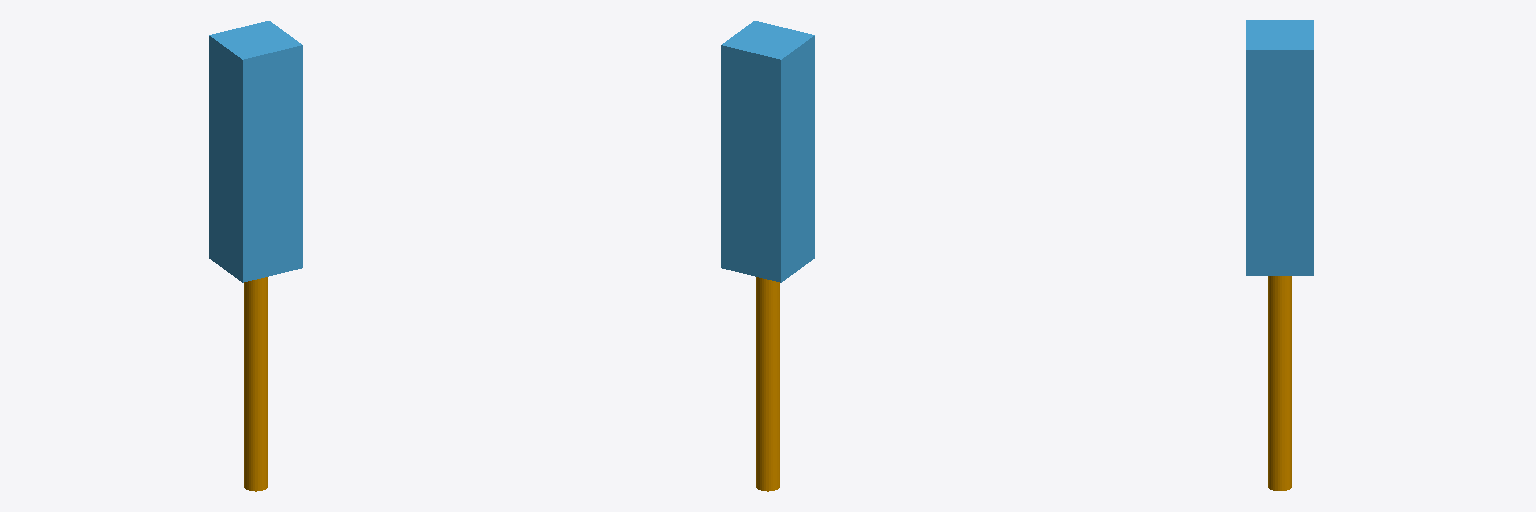
The robot description file, URDF, robot "screwdriver_on_the_table":
<?xml version="1.0" ?>
<!-- this is the one without any virtual joints and links -->
<robot name="screwdriver_on_the_table">
<link name="screwdriver_stick">
    <inertial>
      <mass value="0.05"/>
      <!-- <friction value="1.0"/> -->
      <inertia ixx="0.000041979" ixy="0.0" ixz="0.0" iyy="0.000041979" iyz="0.0" izz="0.000000625"/>
    </inertial>
    <visual>
        <origin rpy="0 0 0" xyz="0 0 0.05"/>
        <geometry>
            <cylinder radius="0.005" length="0.1"/>
        </geometry>
        <!-- <material name="White">
	 	    <color rgba="0.9 0.9 0.9 0.5"/>
        </material> -->
    </visual>
    <collision>
        <origin rpy="0 0 0" xyz="0 0 0.05"/>
        <geometry>
            <cylinder radius="0.005" length="0.1"/>
        </geometry>
    </collision>
</link>

<gazebo reference="screwdriver_body">
    <mu1>1.410469</mu1>
    <mu2>1.125794</mu2>
    <!-- Isaac Sim maps mu1/mu2 to PhysX static/dynamic friction during URDF→USD import -->
</gazebo>

<joint name="screwdriver_stick_body_joint" type="fixed">
    <parent link="screwdriver_stick"/>
    <child link="screwdriver_body"/>
    <origin rpy="0 0 0" xyz="0 0 0.1"/> 
    <axis xyz="0 0 1"/>
</joint>

<link name="screwdriver_body">
    <inertial>
      <mass value="0.090492"/>
      <inertia ixx="0.000081030" ixy="0.0" ixz="0.0" iyy="0.000081447" iyz="0.0" izz="0.000011657"/>
    </inertial>
    <visual>
        <origin rpy="0 0 0" xyz="0 0 0.05"/>
        <geometry>
            <box size="0.028294 0.027300 0.100000"/>
        </geometry>
        <!-- <material name="Red1">
	 	    <color rgba="0.9 0. 0. 0.5"/>
        </material> -->
    </visual>
    <collision>
        <origin rpy="0 0 0" xyz="0 0 0.05"/>
        <geometry>
            <box size="0.028294 0.027300 0.100000"/>
        </geometry>
    </collision>
</link>

<!-- <joint name="screwdriver_body_cap_joint" type="revolute">
    <parent link="screwdriver_body"/>
    <child link="screwdriver_cap"/>
    <origin rpy="0 0 0" xyz="0 0 0.1"/> 
    <axis xyz="0 0 1"/>
</joint>

<link name="screwdriver_cap">
    <inertial>
      <mass value="0.005"/>
      <inertia ixx="0.00001" ixy="0.0" ixz="0.0" iyy="0.000005" iyz="0.0" izz="0.000005"/>
    </inertial>
    <visual>
        <origin rpy="0 0 0" xyz="0 0 0.0006"/>
        <geometry>
            <cylinder radius="0.02" length="0.001"/>
        </geometry>
        <material name="Yellow">
	 	    <color rgba="0.9 0.9 0. 1.0"/>
        </material>
    </visual>
    <collision>
        <origin rpy="0 0 0" xyz="0 0 0.0005"/>
        <geometry>
            <cylinder radius="0.02" length="0.001"/>
        </geometry>
    </collision>
</link> -->

</robot>

--- Facts derived from the render (not from the file) ---
Views: 3 orthographic renders of the robot side by side, from view 1: azimuth 30°, elevation 25°; view 2: azimuth 150°, elevation 25°; view 3: azimuth 270°, elevation 25°.
Robot: screwdriver_on_the_table — 2 links, 1 joints (1 fixed); root link screwdriver_stick; default pose: every joint at zero.
Visible links, largest first — view 1: screwdriver_body, screwdriver_stick; view 2: screwdriver_body, screwdriver_stick; view 3: screwdriver_body, screwdriver_stick.
Boxes of the visible links, left/top/right/bottom form: screwdriver_body: left=209, top=21, right=302, bottom=282; screwdriver_stick: left=244, top=277, right=267, bottom=491; screwdriver_body: left=721, top=21, right=814, bottom=282; screwdriver_stick: left=756, top=277, right=779, bottom=491; screwdriver_body: left=1246, top=20, right=1313, bottom=275; screwdriver_stick: left=1268, top=276, right=1291, bottom=490.
Size in the robot's own frame: 0.0283 by 0.0273 by 0.2 metres.
Geometry: primitives only (box / cylinder / sphere), no mesh files.
